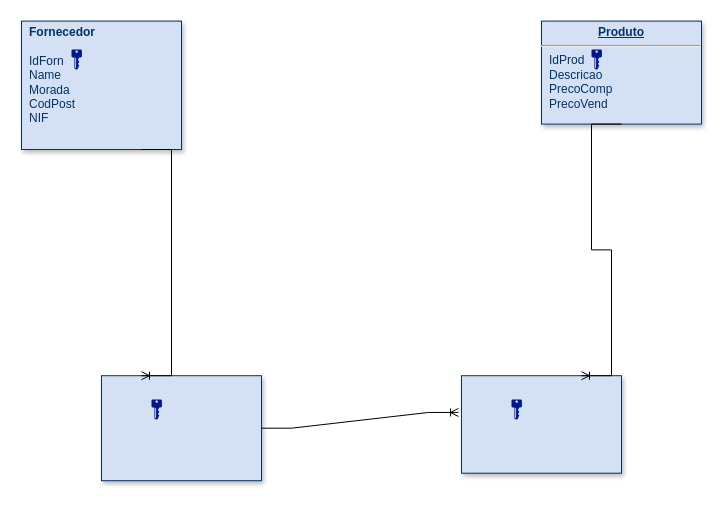
This 725x506 diagram has some shape labels left out. The centre of each missing label's shape, as x and y in pixels:
Detalhe Encomenda IdEnco Quantidade IdProd Subtotal: the point at 542,425
Encomenda IdEnco Data Hora idForn: the point at 182,429
